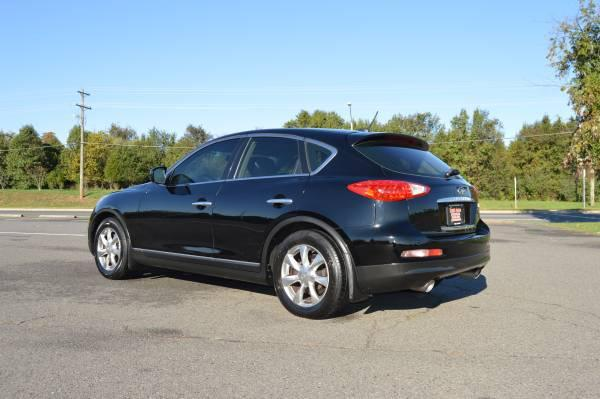Front_Fender: (85, 188, 144, 263)
Front_Left_Door: (134, 180, 220, 276)
Front_Left_Window: (152, 134, 244, 185)
Left_Taillight: (347, 174, 432, 200)
Rear_Bumper: (330, 199, 490, 298)
Rear_Fender: (279, 138, 385, 230)
Rear_Left_Door: (210, 173, 308, 282)
Rear_Left_Window: (224, 132, 308, 180)
Rear_Windshield: (355, 141, 465, 177)
Roof: (161, 126, 427, 174)
Tailgate: (384, 167, 480, 235)
Wheel: (269, 227, 347, 316), (91, 219, 126, 278)
